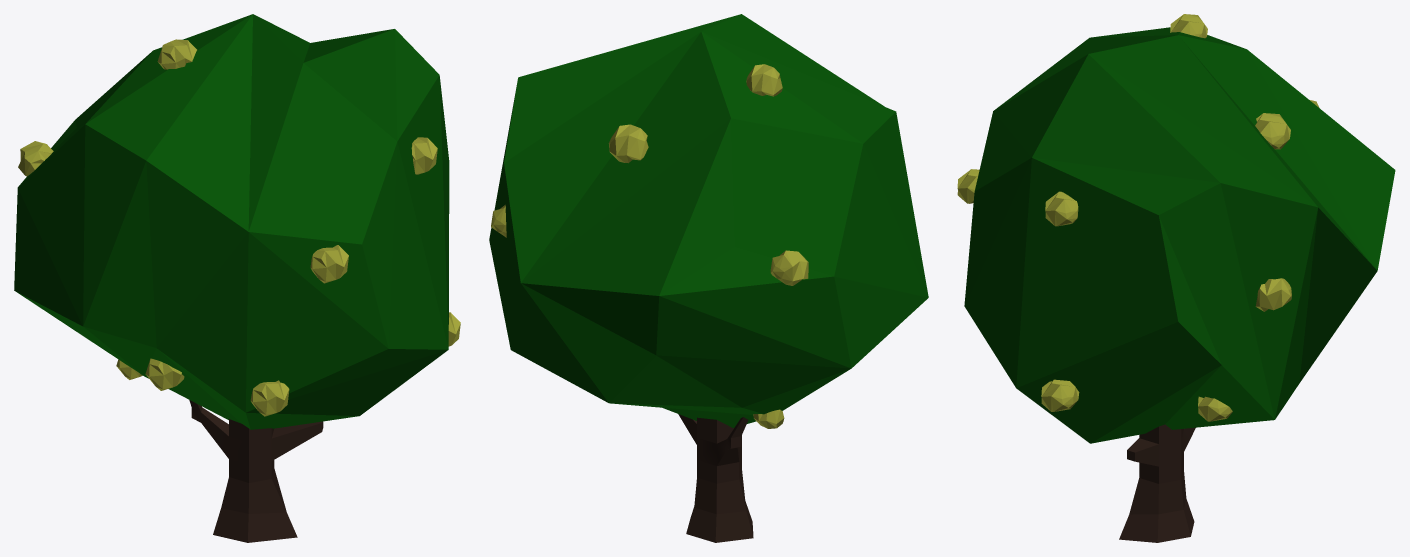
The model's file is Tree10.fbx.
3 views of the same model, side by side, from view 1: azimuth 30°, elevation 25°; view 2: azimuth 150°, elevation 25°; view 3: azimuth 270°, elevation 25° (orthographic).
Parts seen in each view (by area): view 1: TreeFruitLemon; view 2: TreeFruitLemon; view 3: TreeFruitLemon.
Boxes of the visible parts, left/top/right/bottom form: TreeFruitLemon: left=14, top=14, right=460, bottom=542; TreeFruitLemon: left=489, top=14, right=928, bottom=542; TreeFruitLemon: left=957, top=14, right=1395, bottom=542.
Bounding box in the file's own units: 1.21 × 1.47 × 1.18.
